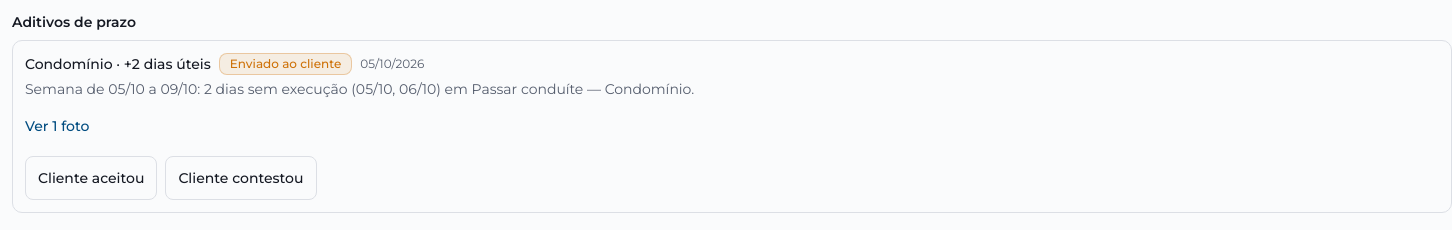
Test: AditivosPrazoList › aceitar pede confirmação (mexe no prazo e o cliente passa a ver)
Later steps or results of the test are not shown.
What coordinates should you click on to do the following:
click the button "Cliente aceitou"
I would click on:
 (91, 178)
Its box is [25,156,157,200].
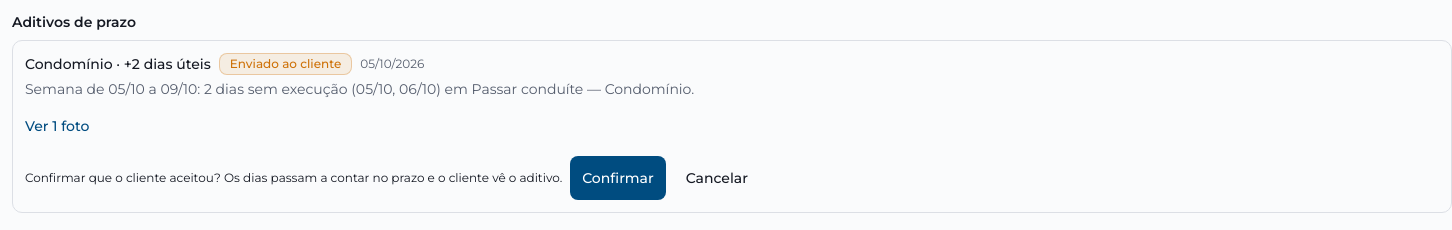
Now the text "Os dias passam a contar no prazo e o cliente vê o aditivo" is shown, box [25,170,562,185]
